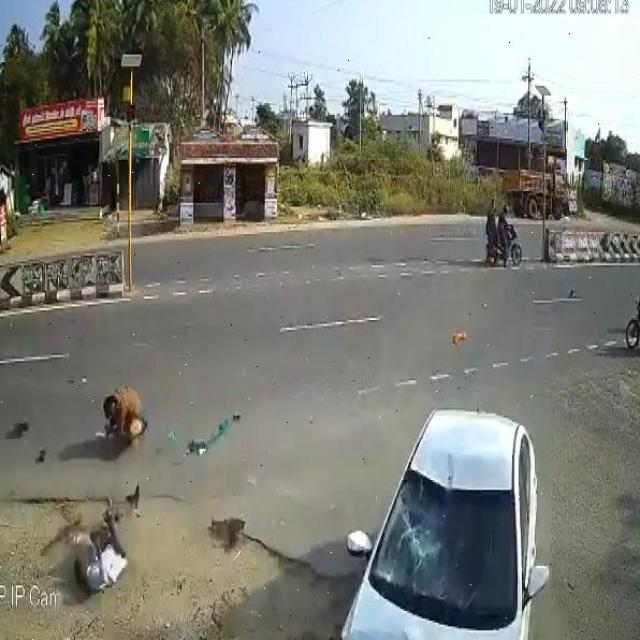accident: (344, 417, 545, 640)
